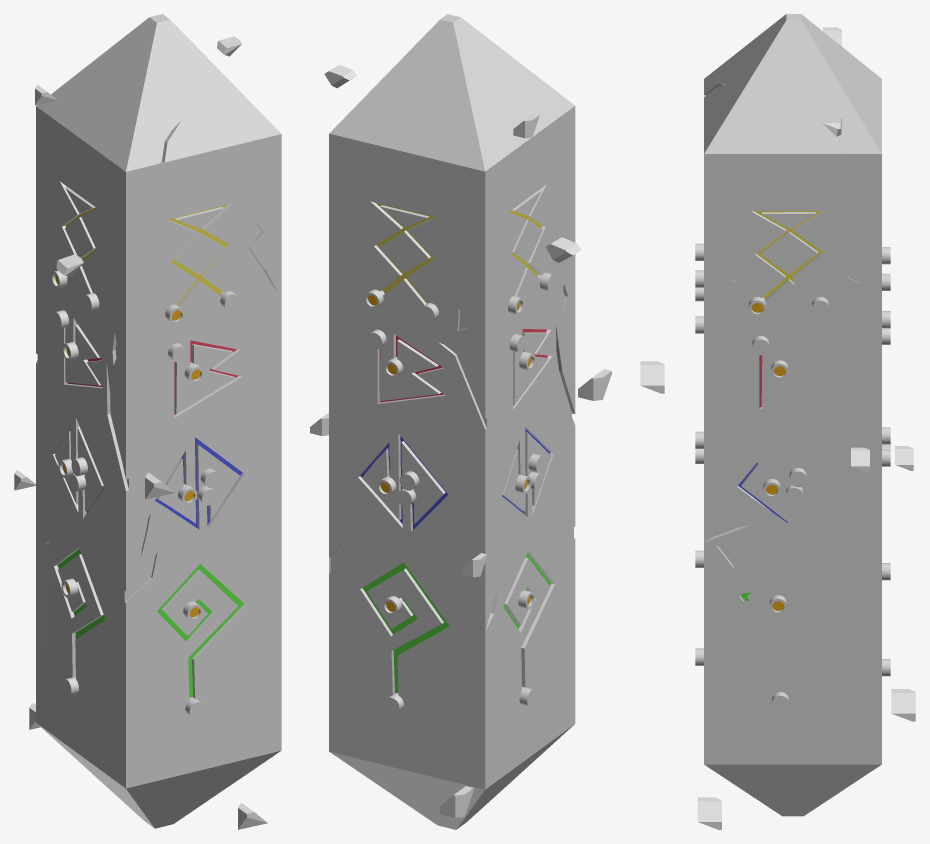
The model's file is Pillar.fbx.
3 renders of one model, left to right at view 1: azimuth 30°, elevation 25°; view 2: azimuth 150°, elevation 25°; view 3: azimuth 270°, elevation 25°, orthographic.
Parts seen in each view (by area): view 1: Plane; view 2: Plane, Cube.007, Cube.001, Cube; view 3: Plane, Cube.006, Cube.001, Cube.007.
Boxes of the visible parts, x1,y1,x2,y2 form: Plane: (36,14,281,828); Plane: (329,14,575,829); Cube.007: (439,786,473,817); Cube.001: (578,369,611,400); Cube: (545,237,580,262); Plane: (695,14,890,816); Cube.006: (697,797,721,829); Cube.001: (640,361,664,393); Cube.007: (891,689,915,721).
Size of the model in its own units: 88.25 by 314 by 98.58.
